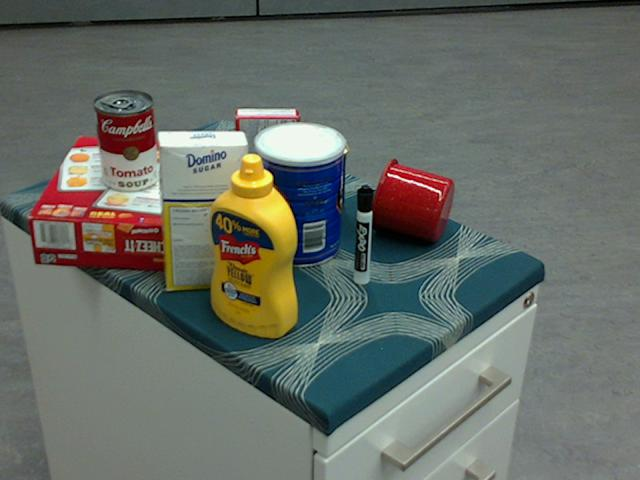cracker_box: (27, 136, 201, 272)
gelatin_box: (234, 109, 298, 163)
large_marker: (355, 185, 373, 284)
master_chef_can: (253, 121, 343, 267)
mug: (369, 157, 453, 241)
mustard_bottle: (210, 153, 297, 338)
potted_meat_can: (265, 133, 347, 214)
sugar_box: (156, 129, 247, 290)
tomato_soup_can: (93, 90, 157, 192)
tuna_fish_can: (188, 147, 233, 217)
